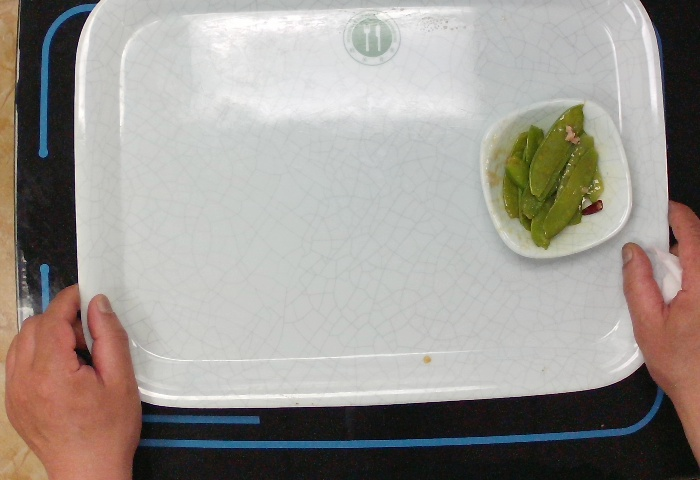JYsf-Si_Fang_Die: (476, 92, 640, 266)
